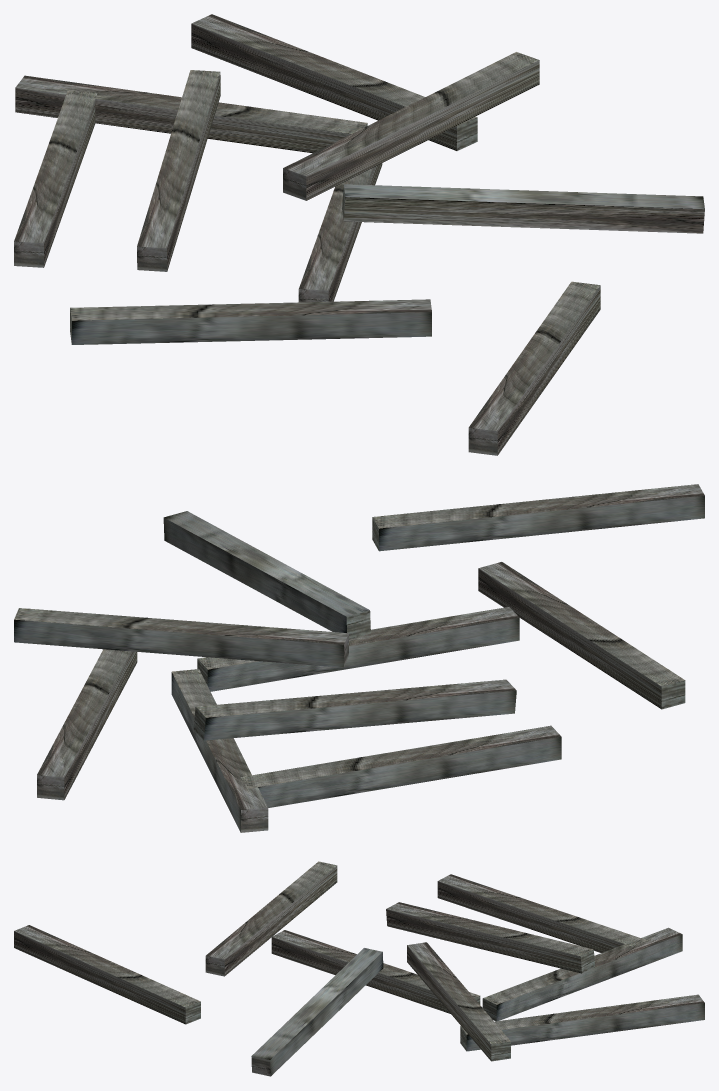
File: Wood set.fbx
3 views of the same model, one above another, from view 1: azimuth 30°, elevation 25°; view 2: azimuth 150°, elevation 25°; view 3: azimuth 270°, elevation 25° (orthographic). The views are drawn at different scales.
Parts seen in each view (by area): view 1: pCube176; view 2: pCube176; view 3: pCube176.
Part boxes in pixels (box(x1,y1,x2,y2)): pCube176: box(14, 14, 704, 455); pCube176: box(14, 484, 704, 832); pCube176: box(14, 861, 704, 1076).
Bounding box in the file's own units: 29.6 × 2.48 × 42.88.
